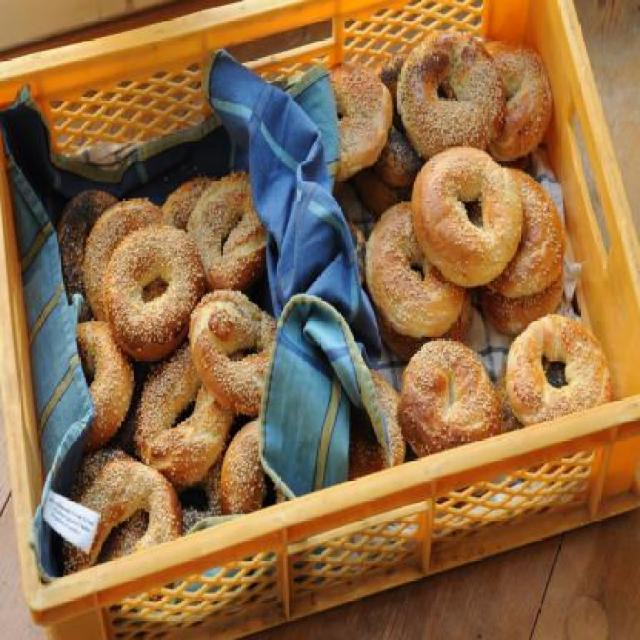Bagel: (59, 29, 612, 576), (408, 142, 520, 284)
